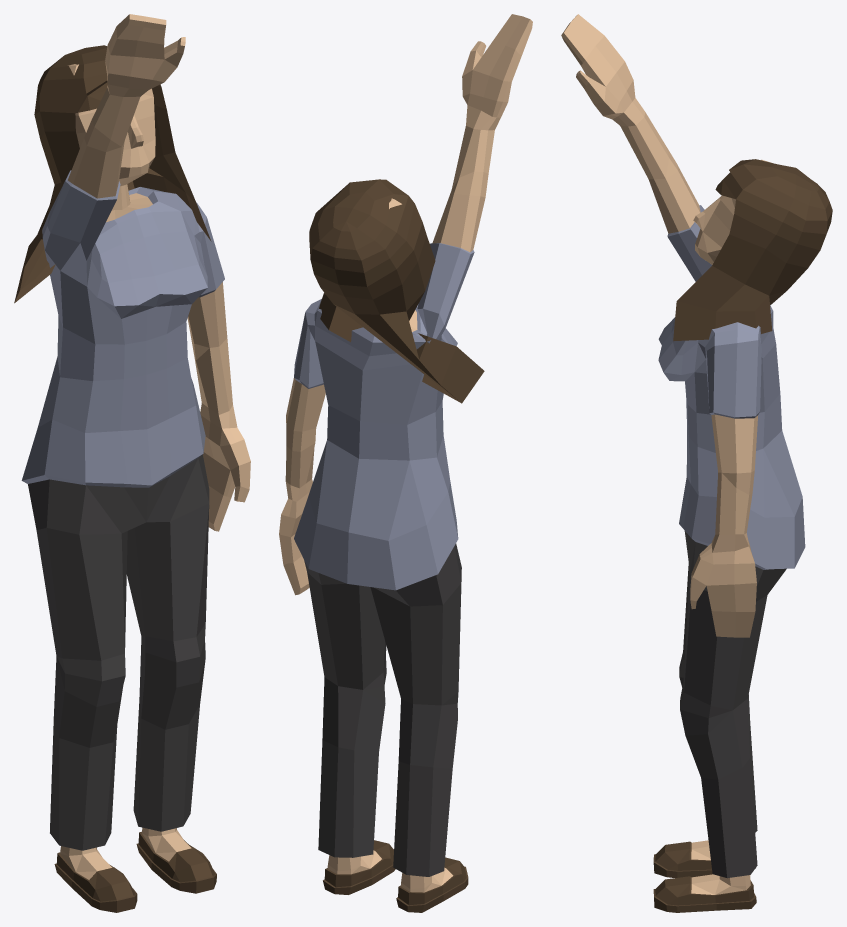
File: Female_Crowd_PointingUp.glb
The picture shows the model from 3 angles, left to right: view 1: azimuth 30°, elevation 25°; view 2: azimuth 150°, elevation 25°; view 3: azimuth 270°, elevation 25°; orthographic projection. The views are drawn at different scales.
Visible parts, largest first — view 1: Female_Crowd_PointingUp; view 2: Female_Crowd_PointingUp; view 3: Female_Crowd_PointingUp.
Boxes of the visible parts, x1,y1,x2,y2 form: Female_Crowd_PointingUp: [14, 14, 250, 912]; Female_Crowd_PointingUp: [279, 14, 532, 912]; Female_Crowd_PointingUp: [561, 14, 832, 912].
Bounding box in the file's own units: 0.4581 × 1.91 × 0.5617.
